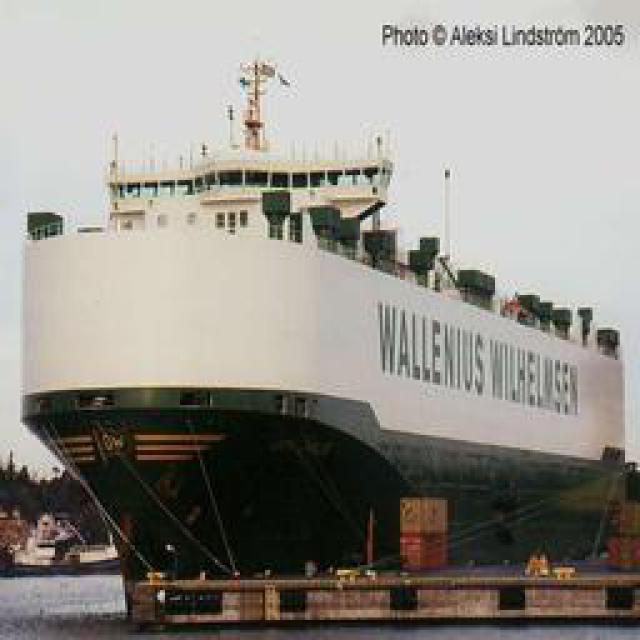Ship: (11, 117, 640, 610)
